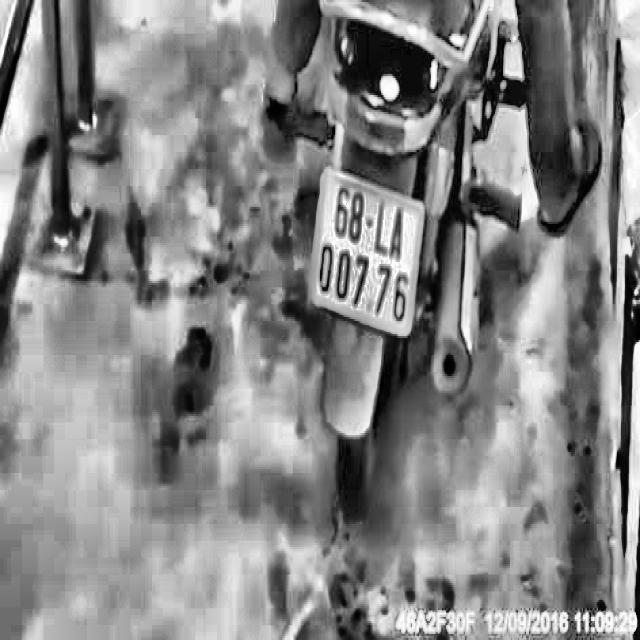plate: (308, 158, 427, 344)
